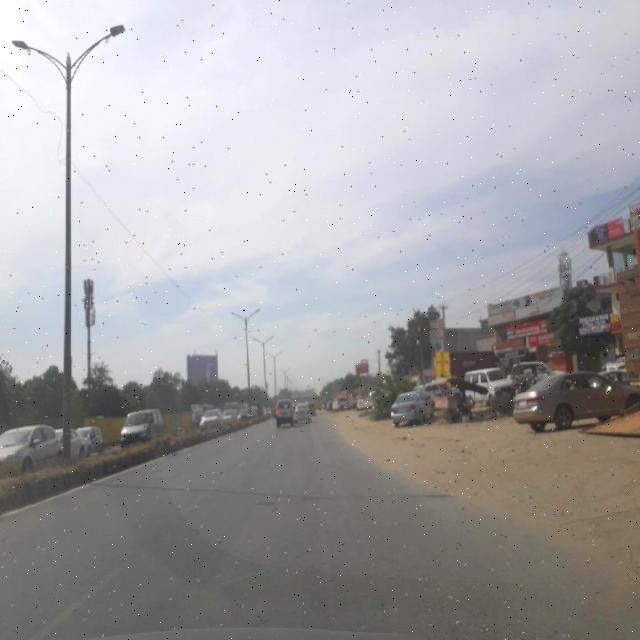D44: (54, 539, 142, 621)
